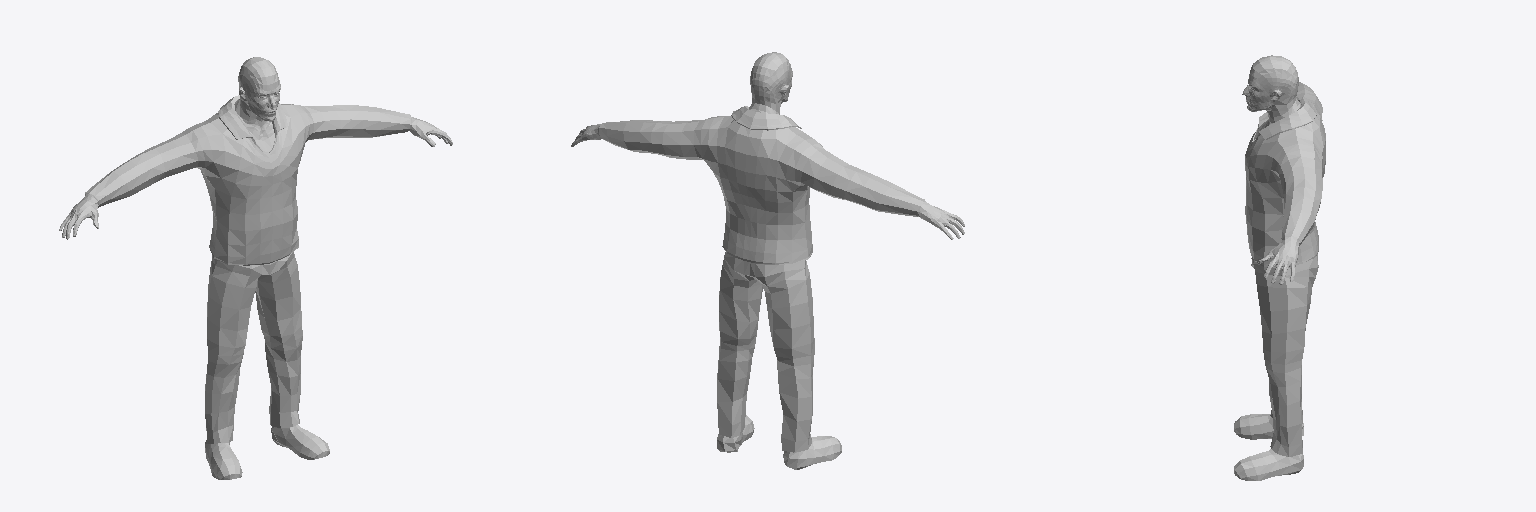
Rendered from HombreR.obj.
3 views of the same model, side by side, from view 1: azimuth 30°, elevation 25°; view 2: azimuth 150°, elevation 25°; view 3: azimuth 270°, elevation 25° (orthographic).
Parts seen in each view (by area): view 1: HombreR:thug; view 2: HombreR:thug; view 3: HombreR:thug.
Boxes of the visible parts, <box> form: HombreR:thug: <box>59,57,452,479</box>; HombreR:thug: <box>571,52,964,469</box>; HombreR:thug: <box>1234,55,1325,480</box>.
Bounding box in the file's own units: 6.55 × 6.45 × 1.36.